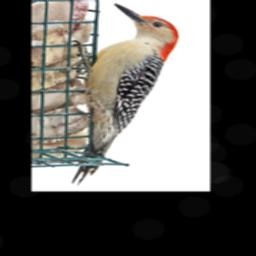Woodpecker: (70, 0, 178, 187)
